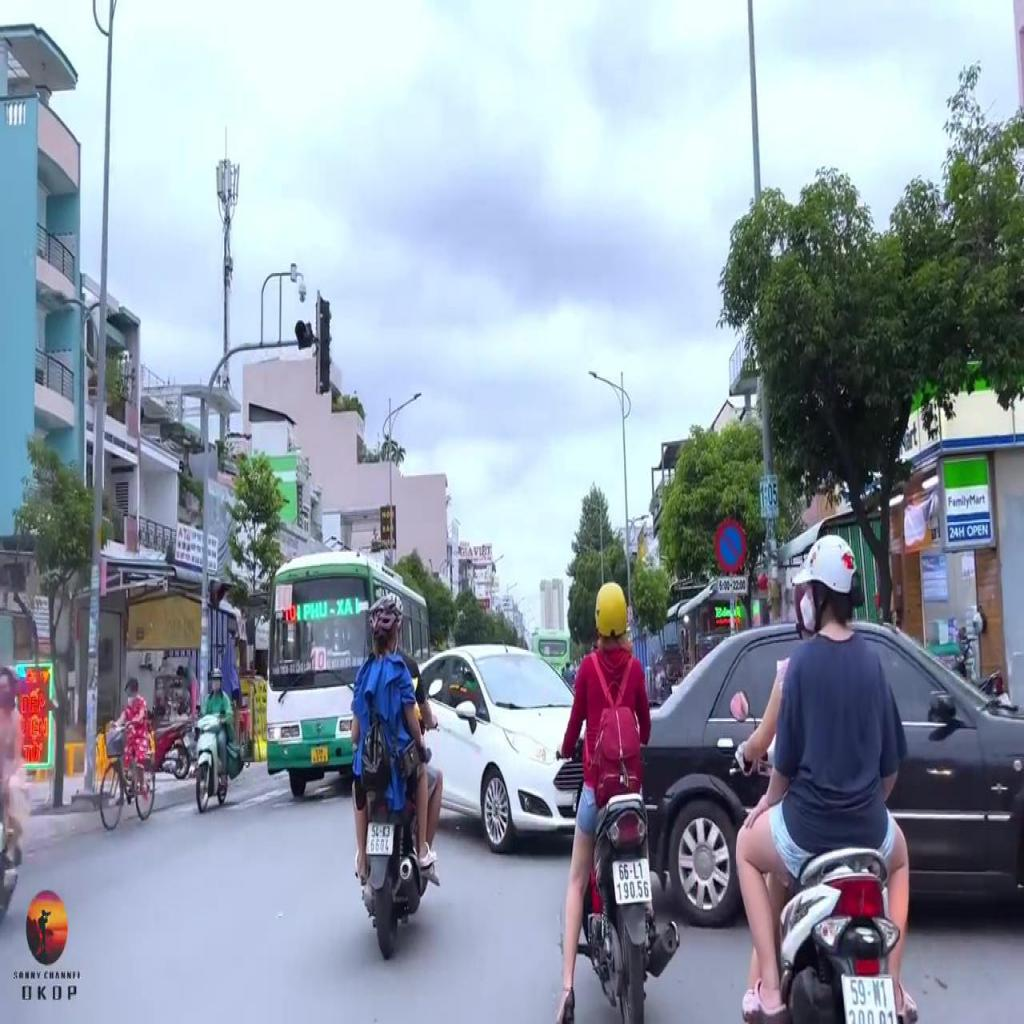cam_do_xe: (714, 521, 746, 573)
khac: (717, 576, 749, 597)
